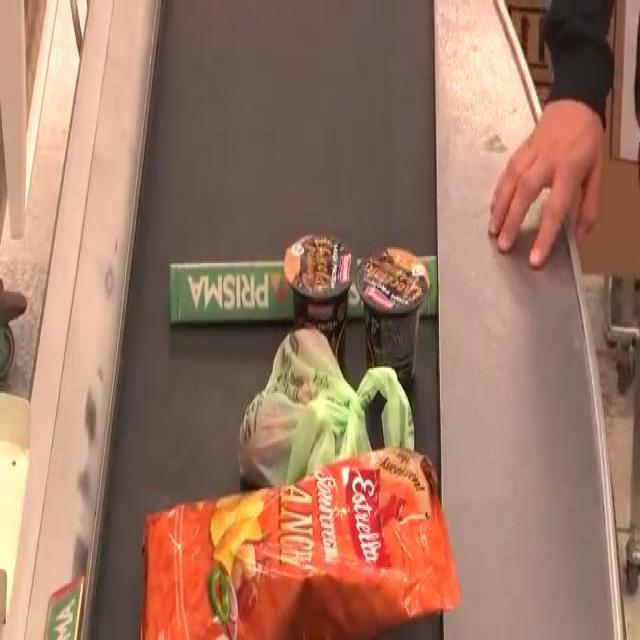food-box: (143, 446, 437, 626), (357, 237, 432, 391), (286, 207, 352, 378)
fruit: (246, 329, 388, 494)
